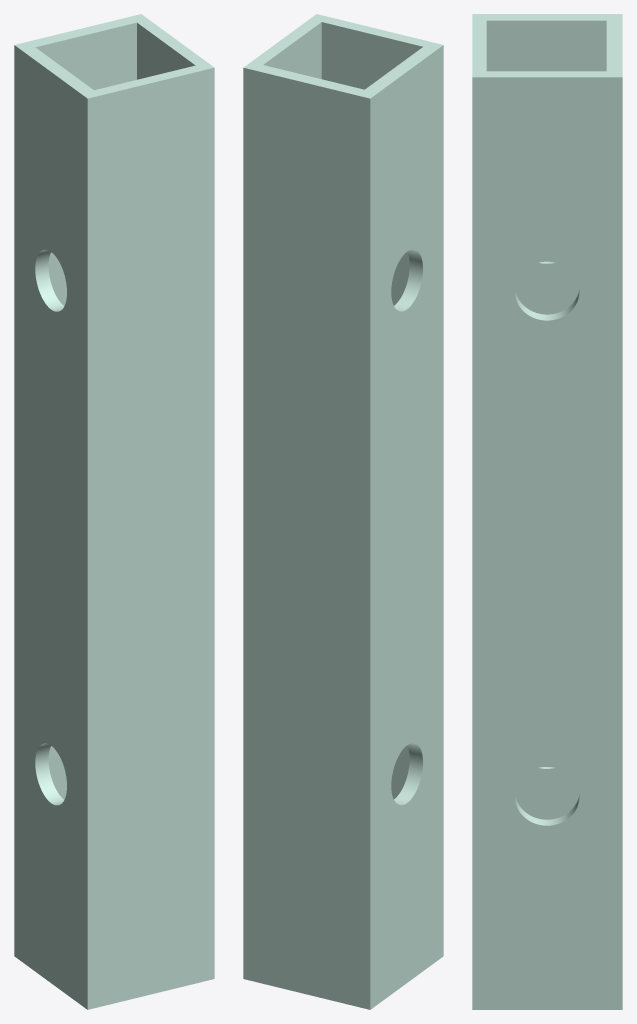
The picture shows the model from 3 angles, left to right: view 1: azimuth 30°, elevation 25°; view 2: azimuth 150°, elevation 25°; view 3: azimuth 270°, elevation 25°; orthographic projection. The views are drawn at different scales.
Visible parts, largest first — view 1: Renderer Node; view 2: Renderer Node; view 3: Renderer Node.
Part boxes in pixels (<box>): Renderer Node: <box>14,14,214,1009</box>; Renderer Node: <box>243,14,443,1009</box>; Renderer Node: <box>472,14,622,1009</box>.
Bounding box in the file's own units: 0.1094 × 0.75 × 0.1094.
